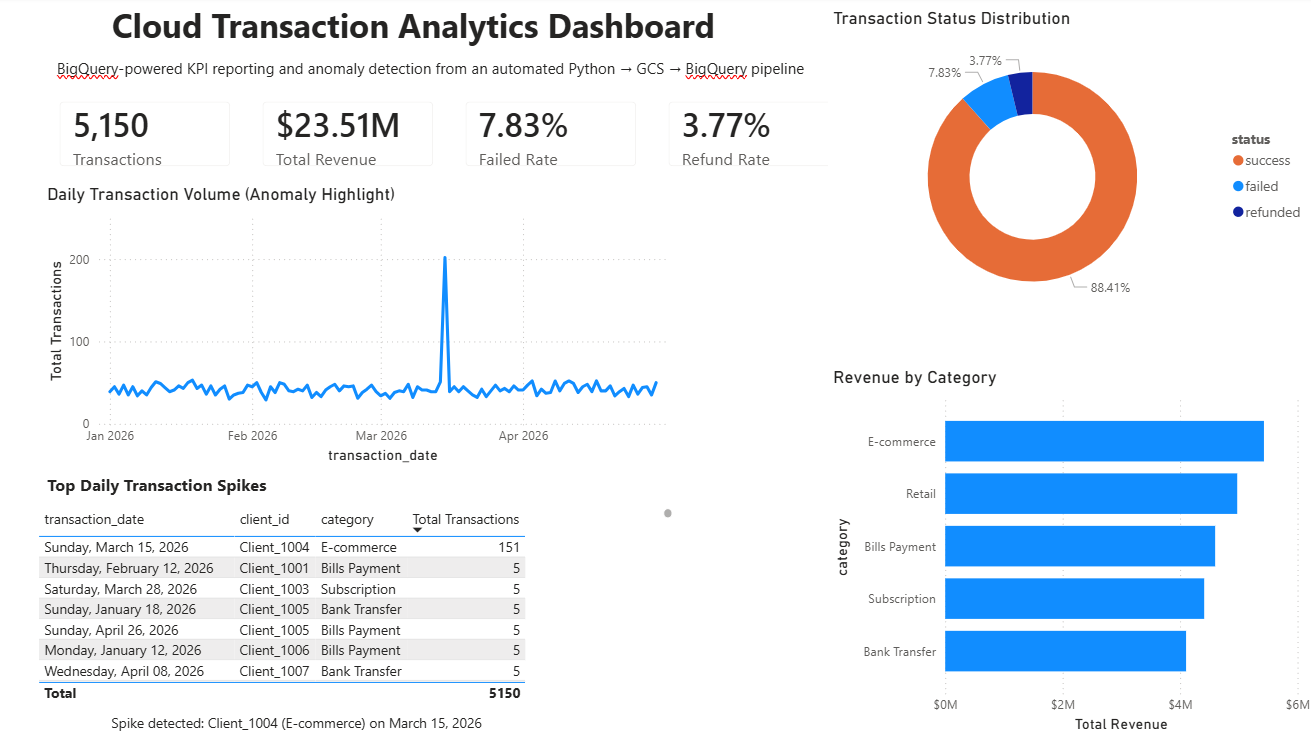

This screenshot's page, from the dashboard's own definition file:
{"tool":"powerbi","page":{"name":"Page 1","canvas":[1280,720],"ordinal":0},"visuals":[{"type":"textbox","box":[0,0,806.3,53.5],"z":0},{"type":"cardVisual","fields":{"Data":["transactions.Total Transactions Label"]},"box":[41.8,84.6,200,97],"z":1000},{"type":"cardVisual","fields":{"Data":["transactions.Total Revenue"]},"box":[239.3,84.6,200,97],"z":2000},{"type":"cardVisual","fields":{"Data":["transactions.Failed Rate %"]},"box":[436.7,84.6,200,97],"z":3000},{"type":"cardVisual","fields":{"Data":["transactions.Refund Rate %"]},"box":[634.2,84.6,200,97],"z":4000},{"type":"clusteredBarChart","title":"Revenue by Category","fields":{"Category":["transactions.category"],"Y":["transactions.Total Revenue"]},"box":[806.3,359.9,473.7,359.9],"z":5000},{"type":"lineChart","title":"Daily Transaction Volume (Anomaly Highlight)","fields":{"Y":["transactions.Total Transactions"],"Category":["transactions.transaction_date"]},"box":[41.8,181.9,627.4,276.2],"z":6000},{"type":"donutChart","title":"Transaction Status Distribution","fields":{"Category":["transactions.status"],"Y":["transactions.Total Transactions"]},"box":[806.3,10.7,473.7,309.3],"z":7000},{"type":"tableEx","fields":{"Values":["transactions.transaction_date","transactions.client_id","transactions.category","transactions.Total Transactions"]},"box":[33.1,492.2,627.4,199.4],"z":8000},{"type":"textbox","box":[33.1,53.5,773.3,47.7],"z":9000},{"type":"textbox","box":[41.8,458.1,618.6,34],"z":10000},{"type":"textbox","box":[41.8,691.6,495.1,28.2],"z":10001}]}

Visuals, with their boxes in screenshot pixels (x1, y1, x2, y2), scaled from the page's 1280x720 canvas onto the 1311x733 screenshot:
textbox: 0, 0, 826, 54
cardVisual - transactions.Total Transactions Label: 43, 86, 248, 185
cardVisual - transactions.Total Revenue: 245, 86, 450, 185
cardVisual - transactions.Failed Rate %: 447, 86, 652, 185
cardVisual - transactions.Refund Rate %: 650, 86, 854, 185
"Revenue by Category" clusteredBarChart: 826, 366, 1310, 732
"Daily Transaction Volume (Anomaly Highlight)" lineChart: 43, 185, 685, 466
"Transaction Status Distribution" donutChart: 826, 11, 1310, 326
tableEx - transactions.transaction_date x transactions.client_id: 34, 501, 676, 704
textbox: 34, 54, 826, 103
textbox: 43, 466, 676, 501
textbox: 43, 704, 550, 732
